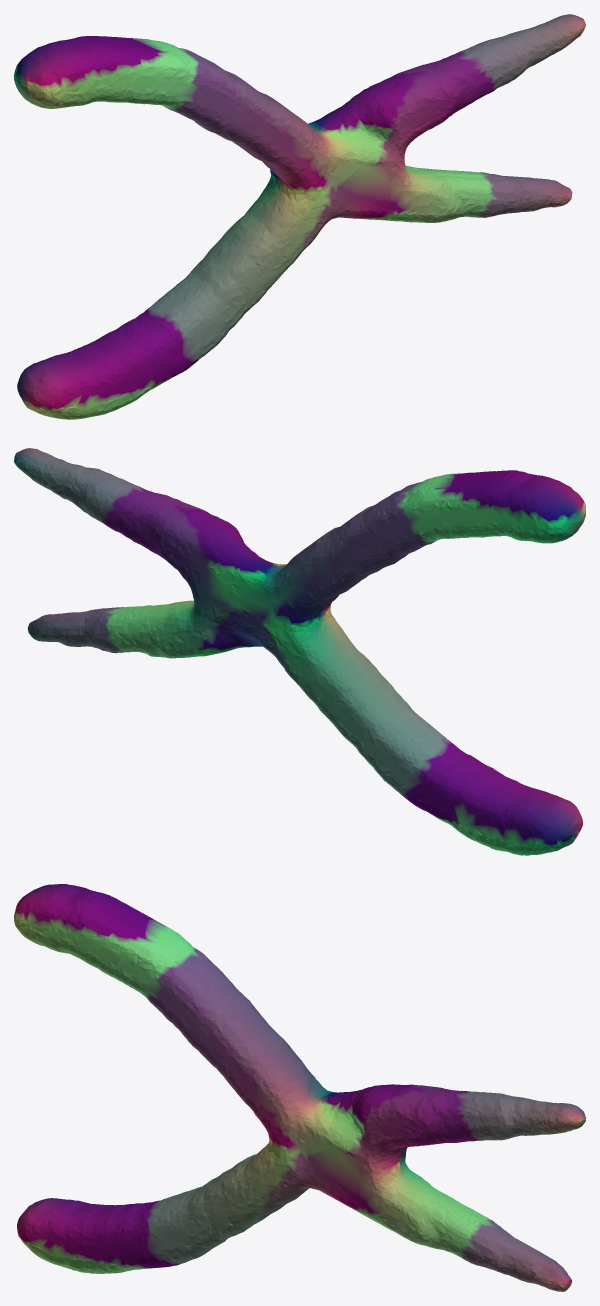
Rendered from pliers-11.off.obj.
3 renders of one model, top to bottom at view 1: azimuth 30°, elevation 25°; view 2: azimuth 150°, elevation 25°; view 3: azimuth 330°, elevation 25°, orthographic.
Bounding box in the file's own units: 1.58 × 0.9866 × 0.1729.
